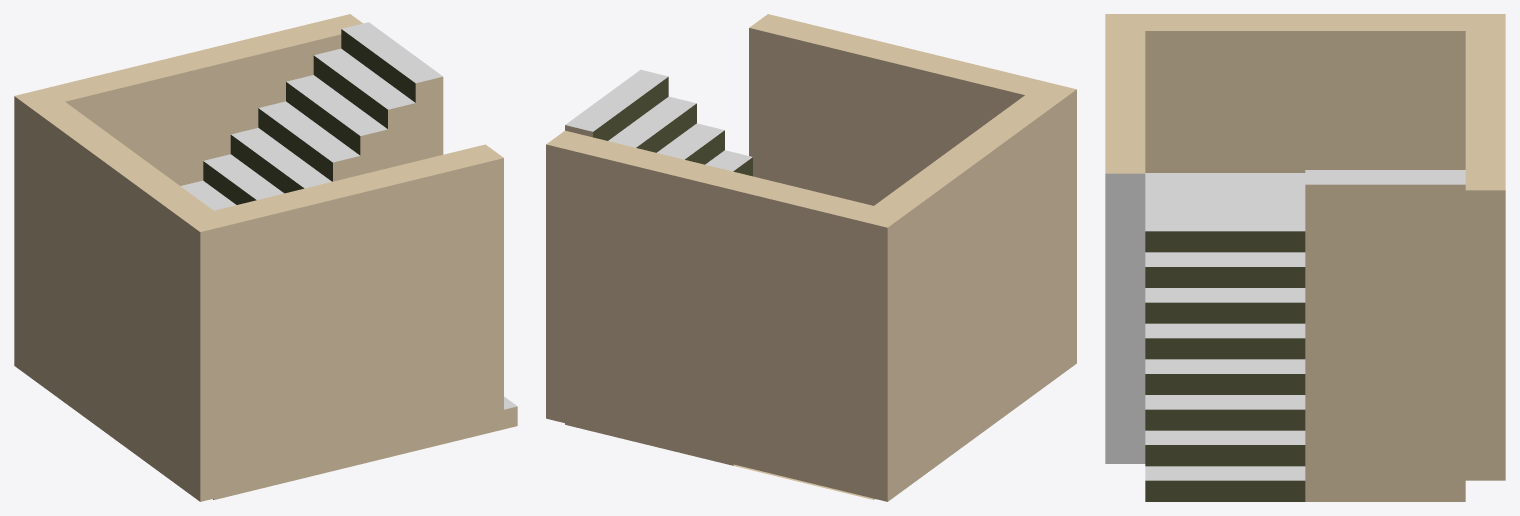
Rendered from Stairs.fbx.
The picture shows the model from 3 angles, left to right: view 1: azimuth 30°, elevation 25°; view 2: azimuth 150°, elevation 25°; view 3: azimuth 270°, elevation 25°; orthographic projection. The views are drawn at different scales.
Visible parts, largest first — view 1: Stairs; view 2: Stairs; view 3: Stairs.
Part boxes in pixels (box(x1,y1,x2,y2)): Stairs: box(14, 14, 517, 501); Stairs: box(546, 14, 1076, 501); Stairs: box(1105, 14, 1505, 501).
Size of the model in its own units: 318 by 305 by 267.
